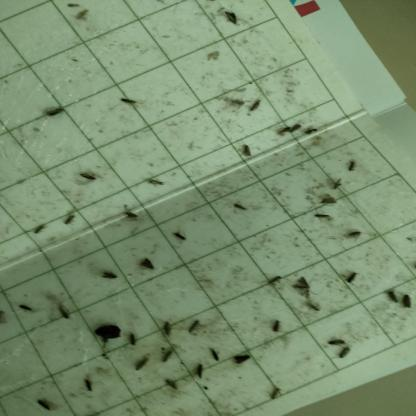prays_oleae: (76, 164, 106, 199), (116, 86, 145, 121), (342, 221, 371, 250), (181, 305, 205, 339), (160, 338, 179, 375), (301, 118, 326, 146), (98, 260, 122, 288), (244, 91, 266, 121), (258, 269, 284, 294), (136, 249, 158, 278), (129, 351, 155, 375), (41, 98, 66, 122), (16, 289, 36, 319), (310, 209, 336, 232), (300, 299, 326, 321), (29, 393, 56, 414), (230, 346, 253, 369), (268, 313, 284, 346), (121, 201, 142, 226), (57, 206, 77, 232), (316, 188, 336, 214), (290, 271, 310, 297), (28, 216, 46, 244), (229, 89, 246, 118), (325, 330, 350, 349), (343, 157, 362, 182), (264, 378, 282, 404), (172, 226, 192, 249), (337, 346, 357, 369), (145, 177, 171, 194), (55, 298, 73, 322), (330, 174, 349, 196), (230, 197, 248, 220), (287, 118, 303, 143), (239, 141, 255, 166), (387, 281, 401, 309), (190, 361, 206, 385), (83, 370, 96, 399), (275, 118, 291, 140), (165, 374, 179, 399), (342, 270, 359, 290), (224, 10, 239, 31), (210, 347, 226, 365), (400, 288, 412, 312), (126, 328, 137, 350)
